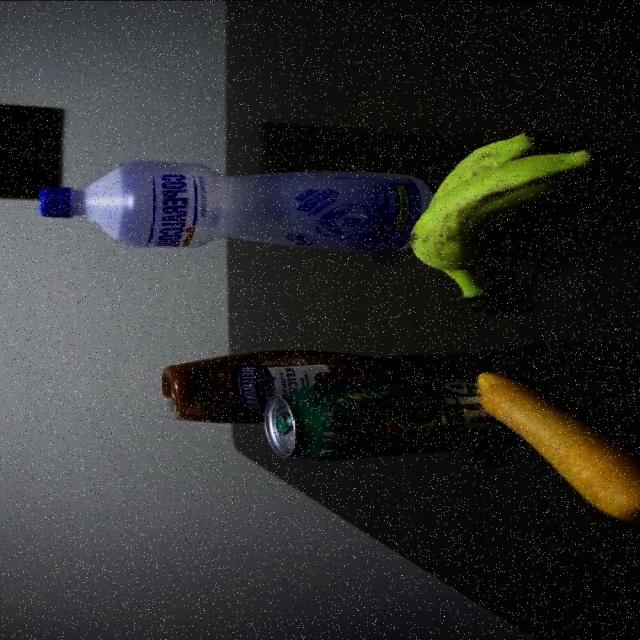AlcoholBottle: (36, 162, 407, 252)
Banana: (406, 131, 633, 318)
BeerCan: (265, 381, 462, 461)
Carrot: (475, 366, 640, 531)
Ketchup: (148, 350, 450, 382)
